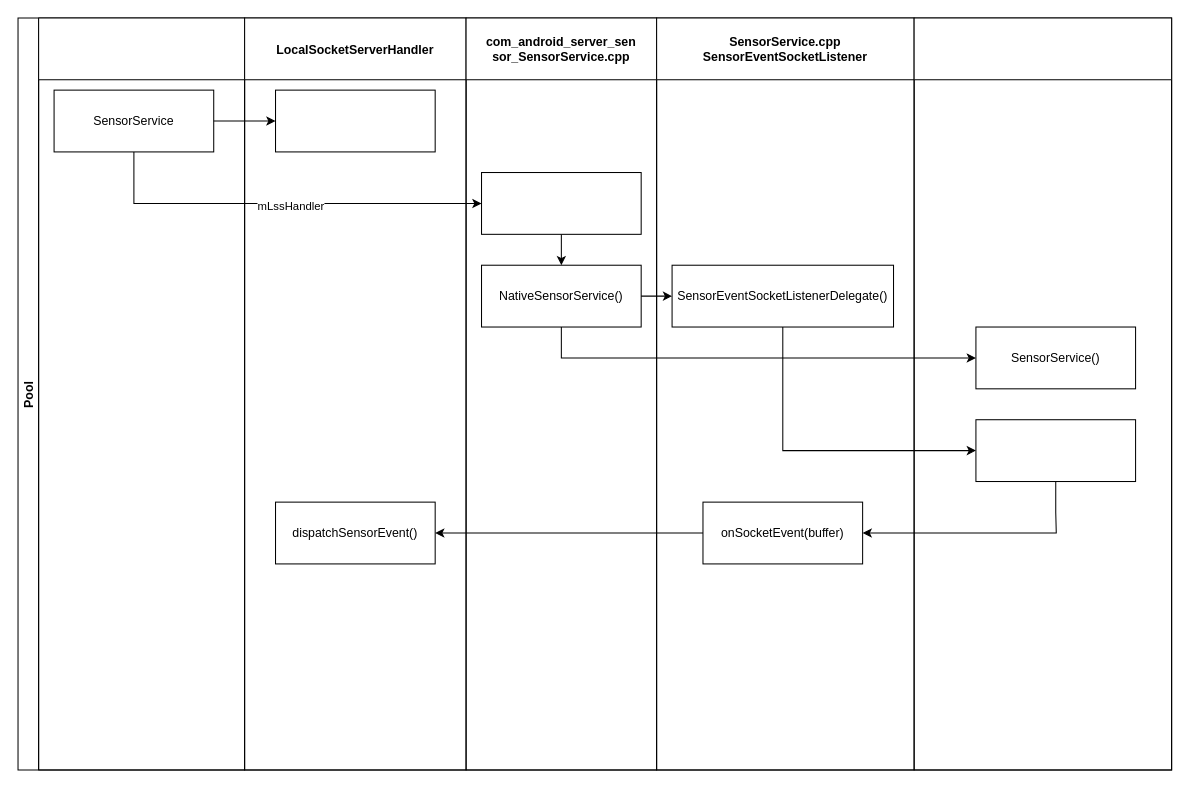
Image size: 1190x788. Some labels were removed from this diagram. The box of each missing label's shape, as (x1, y1, x2, y2) in pixels:
mLssHandler 构造()、start(): (274, 89, 435, 152)
SensorService.cpp: (913, 17, 1172, 770)
SensorService.java: (38, 17, 245, 770)
setSensorEventListener(): (975, 419, 1136, 482)
startSensorServiceNative(): (480, 171, 641, 234)
